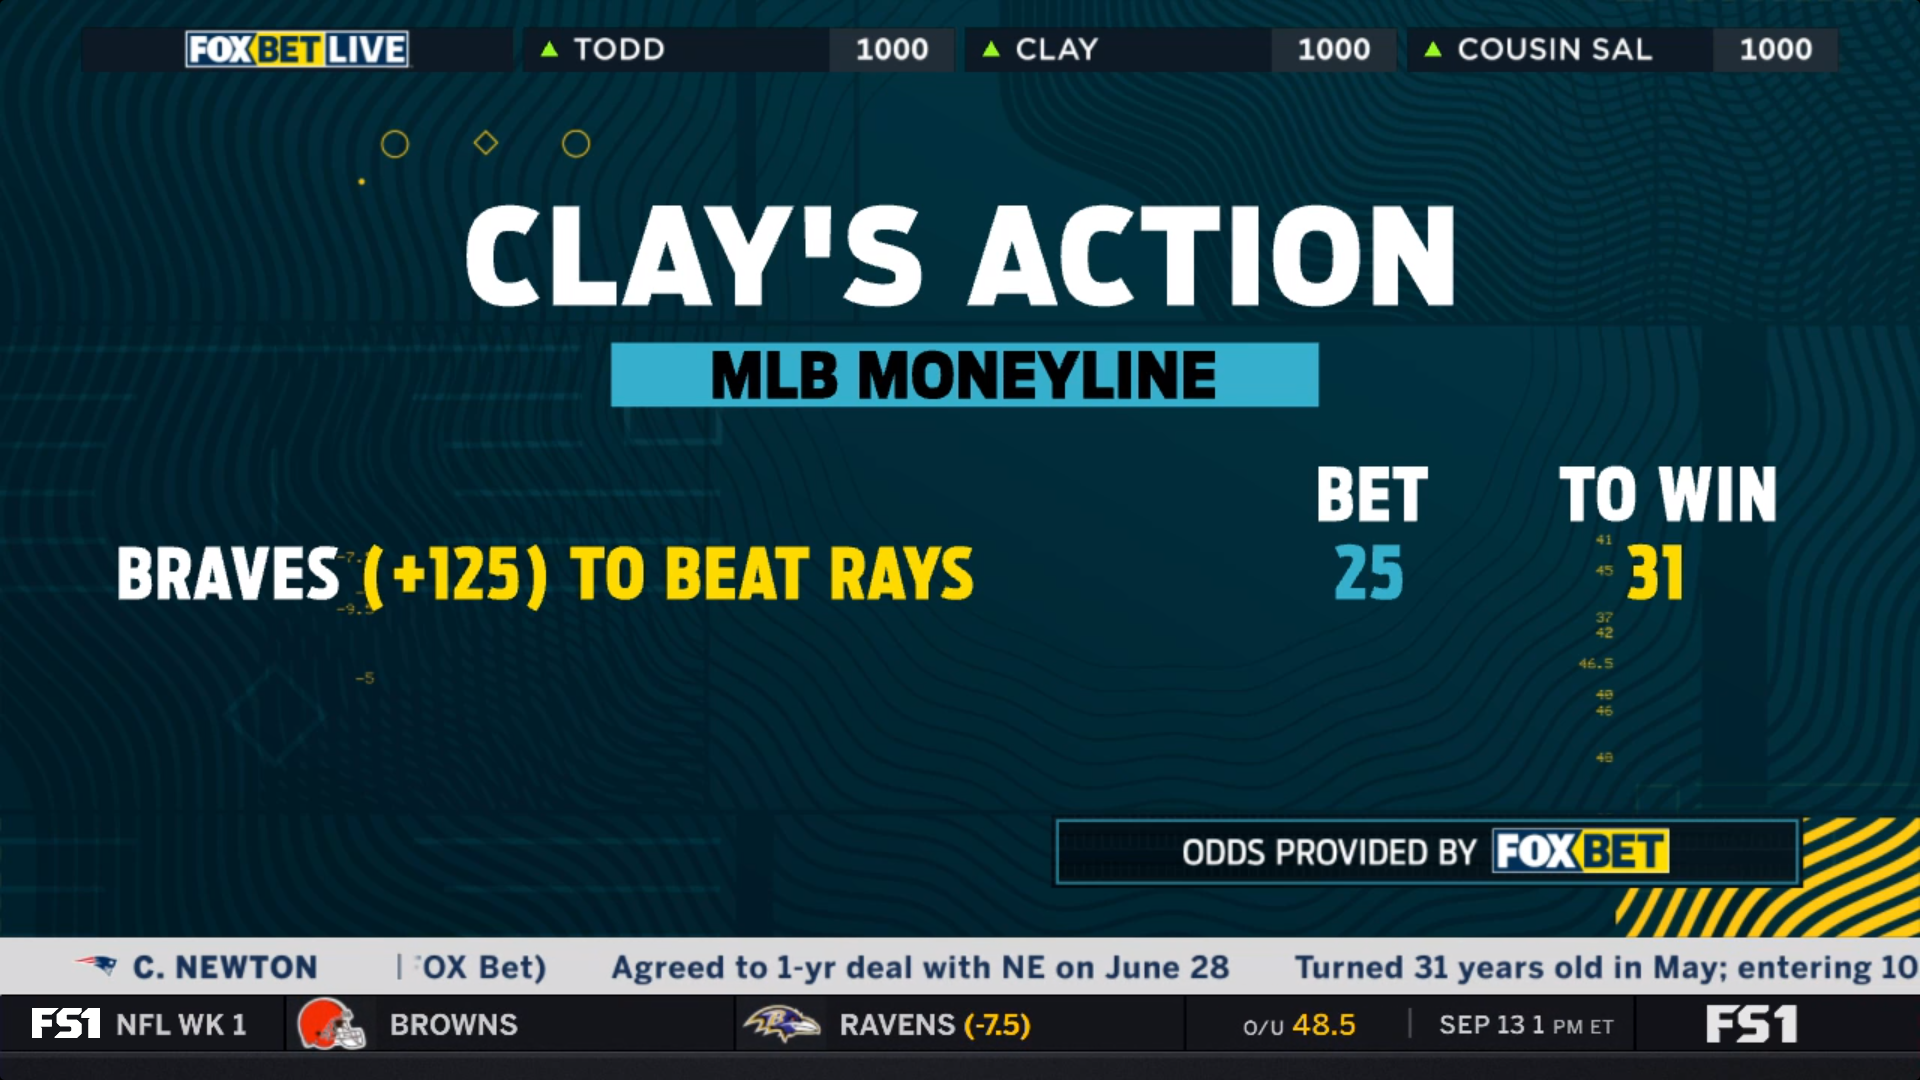Bet: (103, 531, 996, 615)
Bet Amount: (1305, 455, 1448, 616)
Subtitle: (597, 334, 1335, 419)
Title: (456, 193, 1472, 315)
To Win: (1551, 452, 1792, 617)
Top Bar: (73, 15, 1847, 84)
